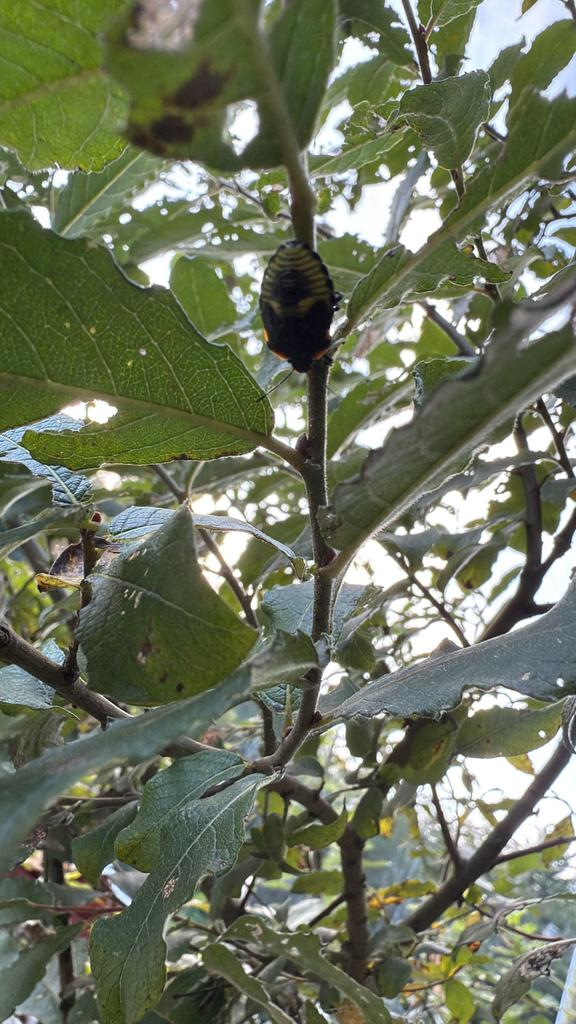stink_bugs: (221, 200, 372, 398)
